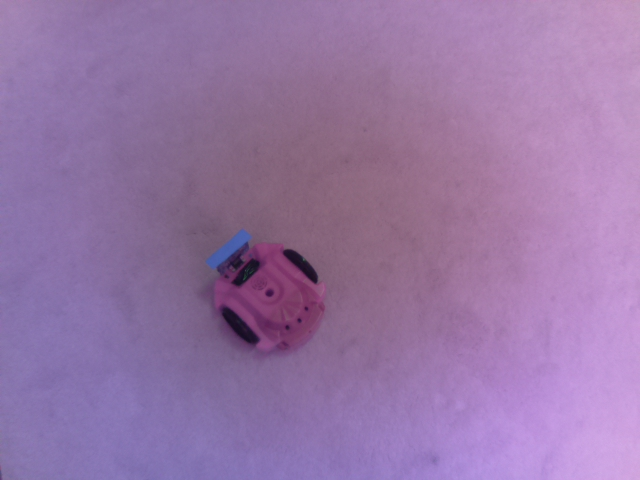board: (206, 227, 251, 270)
chassis: (204, 226, 333, 355)
